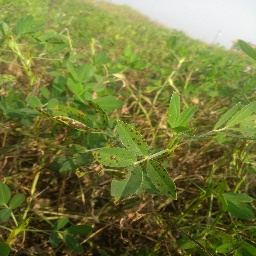GroundNut_Leaf: (50, 104, 110, 133), (215, 97, 255, 138), (167, 90, 200, 139), (109, 165, 144, 206), (115, 118, 150, 158), (147, 160, 180, 201), (221, 189, 255, 221), (63, 223, 98, 254), (8, 192, 28, 209), (78, 61, 93, 83), (26, 92, 43, 108)
